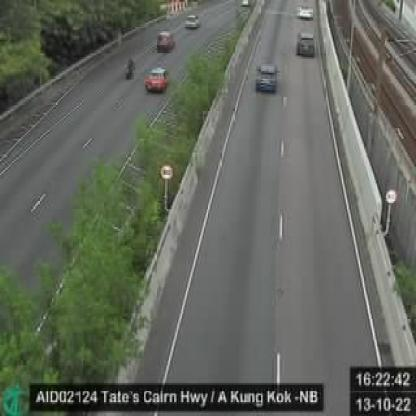Car: (256, 62, 278, 93), (145, 68, 169, 94), (155, 30, 176, 52), (298, 30, 315, 55), (185, 13, 201, 30), (298, 5, 312, 19)
